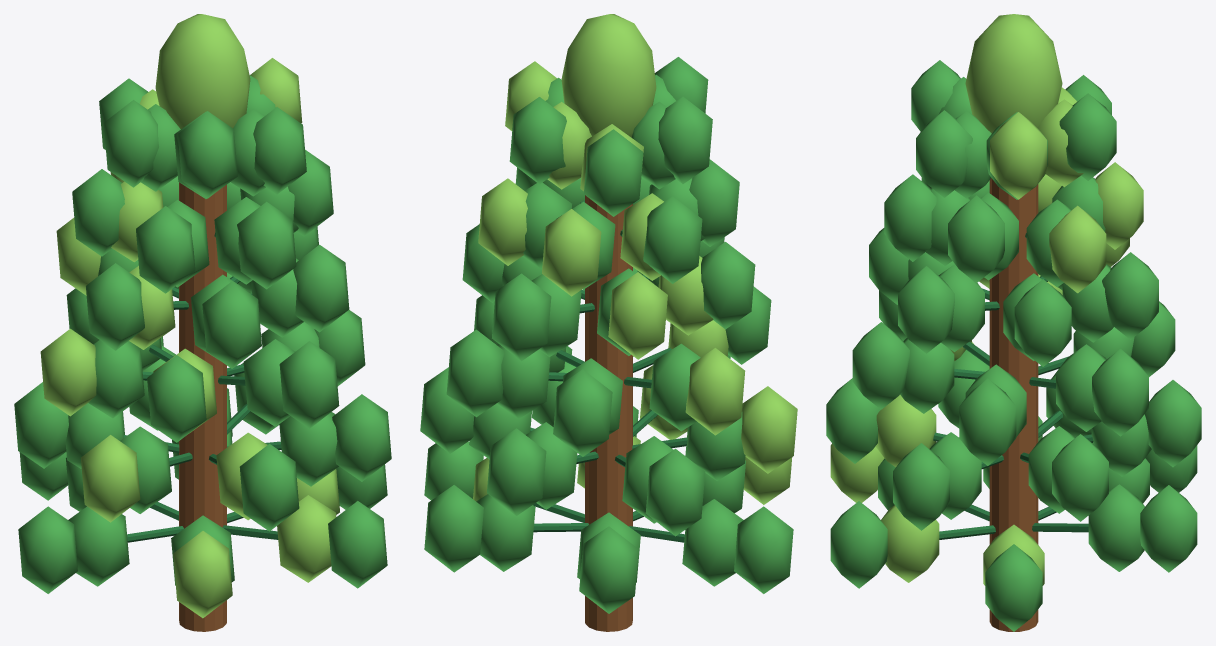
The model's file is LakesidePineDetailed.fbx.
3 views of the same model, side by side, from view 1: azimuth 30°, elevation 25°; view 2: azimuth 150°, elevation 25°; view 3: azimuth 270°, elevation 25° (orthographic).
Parts seen in each view (by area): view 1: LakesidePineDetailed; view 2: LakesidePineDetailed; view 3: LakesidePineDetailed.
Part boxes in pixels (x1,y1,x2,y2): LakesidePineDetailed: (14, 14, 391, 631); LakesidePineDetailed: (420, 14, 797, 631); LakesidePineDetailed: (826, 14, 1201, 631).
Bounding box in the file's own units: 3.27 × 5.25 × 2.94.
